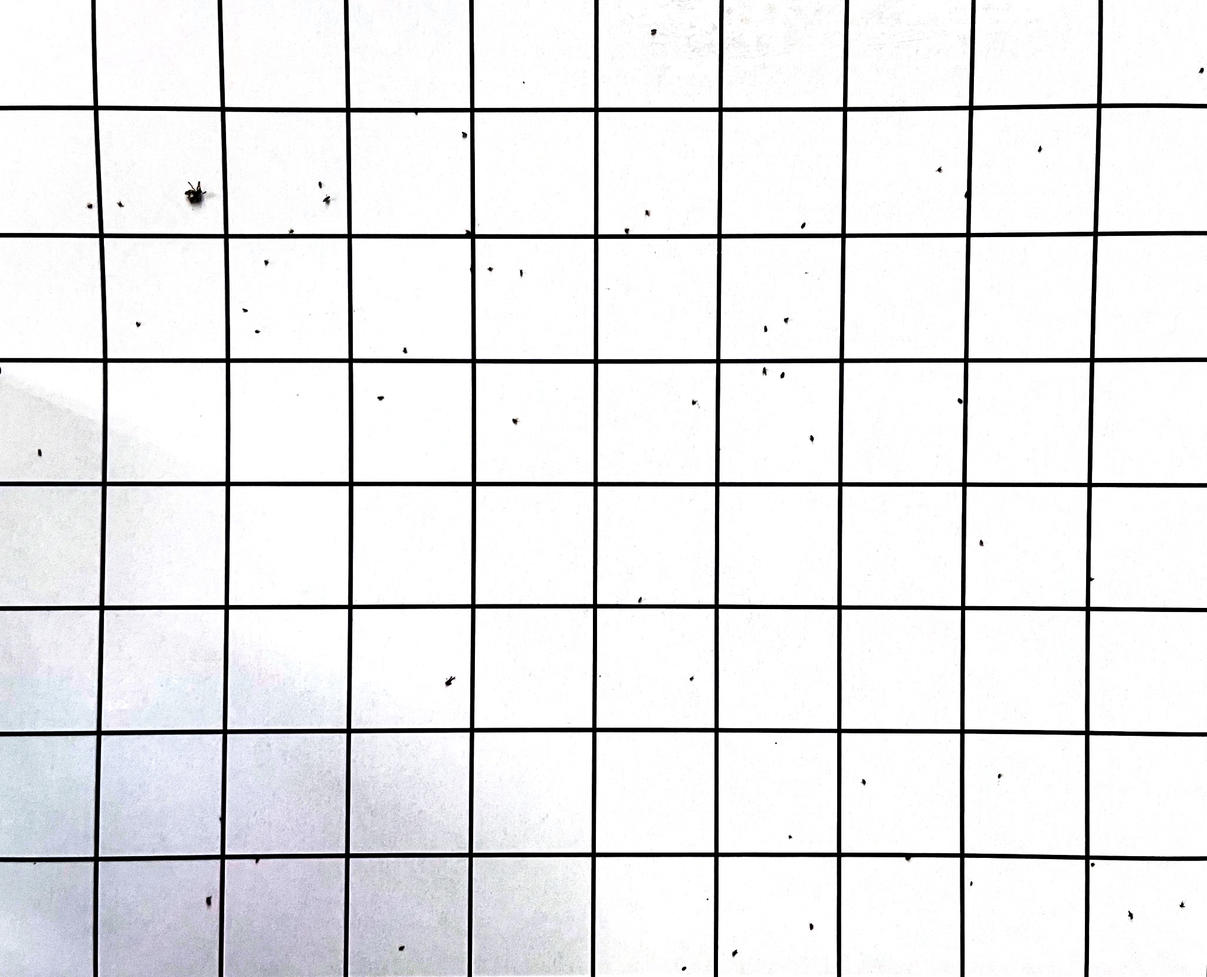fly: (183, 182, 207, 206)
test: (443, 674, 457, 688), (964, 188, 974, 202), (397, 942, 408, 952), (808, 433, 818, 444), (1035, 144, 1045, 155), (977, 537, 986, 549), (1086, 574, 1098, 583), (205, 894, 212, 909), (622, 226, 632, 236), (85, 202, 96, 211), (460, 128, 468, 140), (689, 398, 699, 407), (799, 222, 809, 231), (485, 264, 495, 273), (322, 196, 332, 205), (510, 416, 519, 426), (464, 225, 472, 236), (1088, 860, 1097, 869), (251, 856, 261, 864), (808, 922, 816, 932), (761, 365, 769, 375), (1128, 911, 1135, 922), (731, 947, 739, 956), (904, 854, 912, 863), (967, 880, 975, 889), (1178, 900, 1186, 909), (935, 167, 944, 175), (650, 30, 658, 39), (241, 306, 250, 314), (251, 328, 263, 334), (376, 393, 384, 402), (36, 448, 44, 457), (116, 200, 125, 208), (781, 316, 791, 323), (285, 228, 295, 235), (779, 372, 787, 380), (217, 816, 226, 823), (762, 324, 769, 333), (402, 346, 409, 355), (413, 109, 422, 116), (645, 207, 651, 217), (519, 269, 525, 279), (859, 779, 866, 787), (956, 397, 964, 404), (1198, 68, 1205, 76), (262, 259, 270, 266), (135, 320, 142, 328), (688, 674, 695, 681), (521, 80, 528, 87), (998, 771, 1004, 779), (704, 894, 711, 900), (317, 180, 324, 186), (637, 597, 642, 604), (680, 967, 686, 972), (788, 834, 793, 839), (772, 741, 778, 745)
